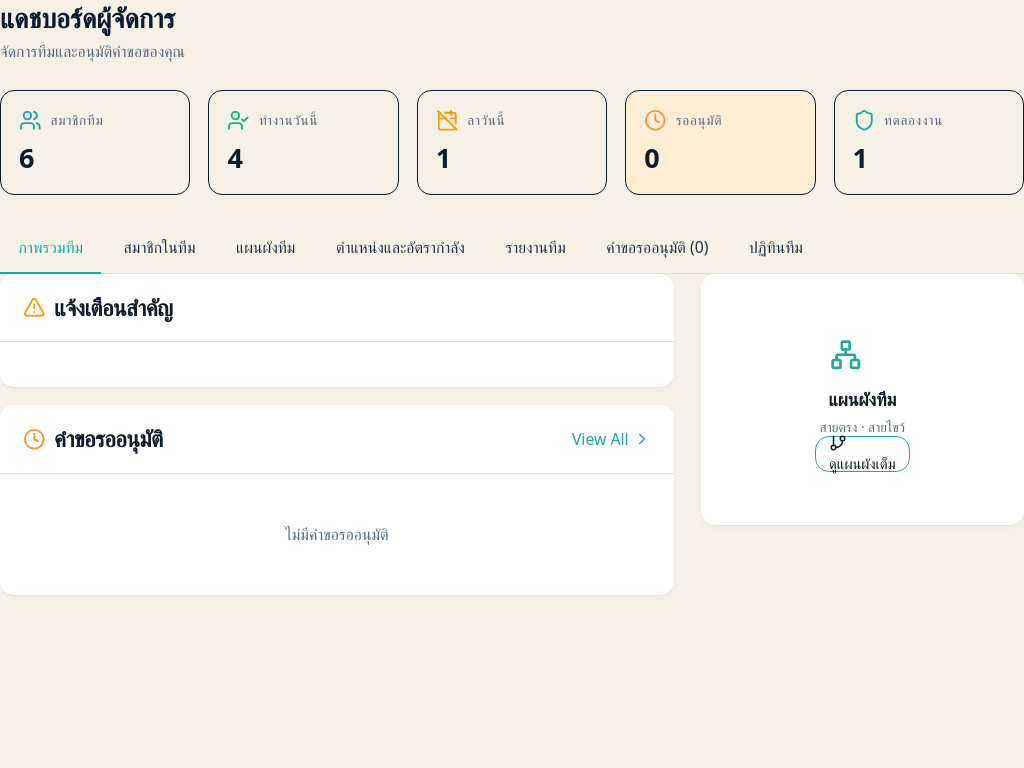
Test case: AC-3: movement timeline types › แสดง employeeName ของ joiner record
Click the button "รายงานทีม" at (536, 248), box [487,222,584,274]
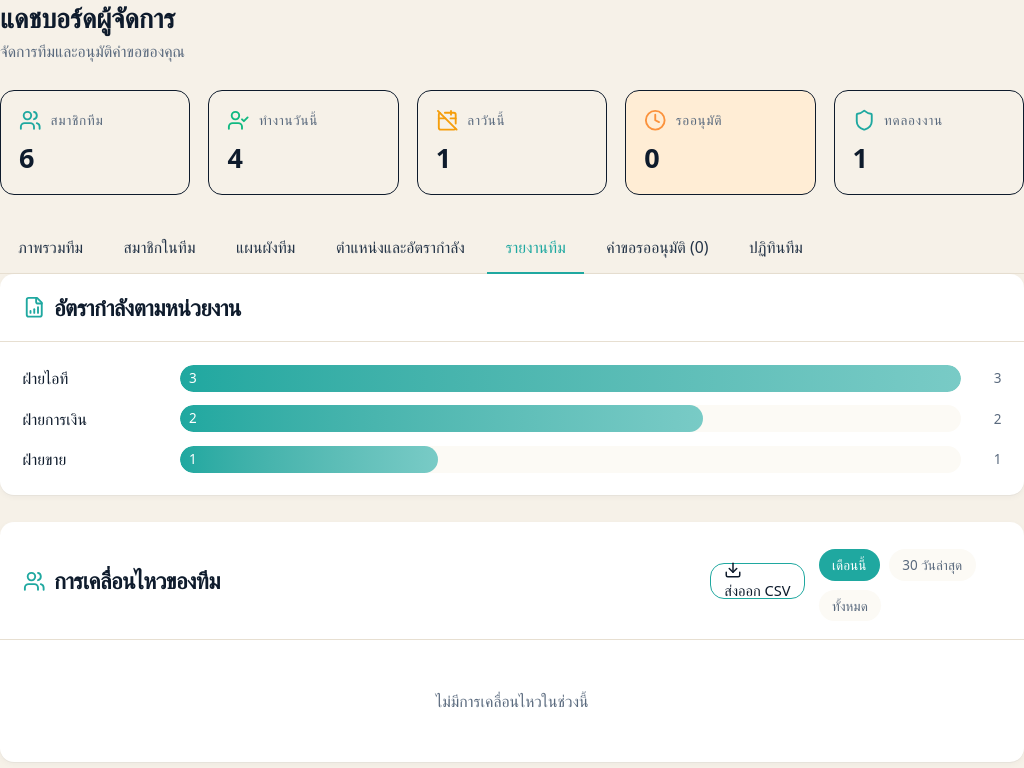
Click the button "ทั้งหมด" at (850, 606), box [819,590,881,622]
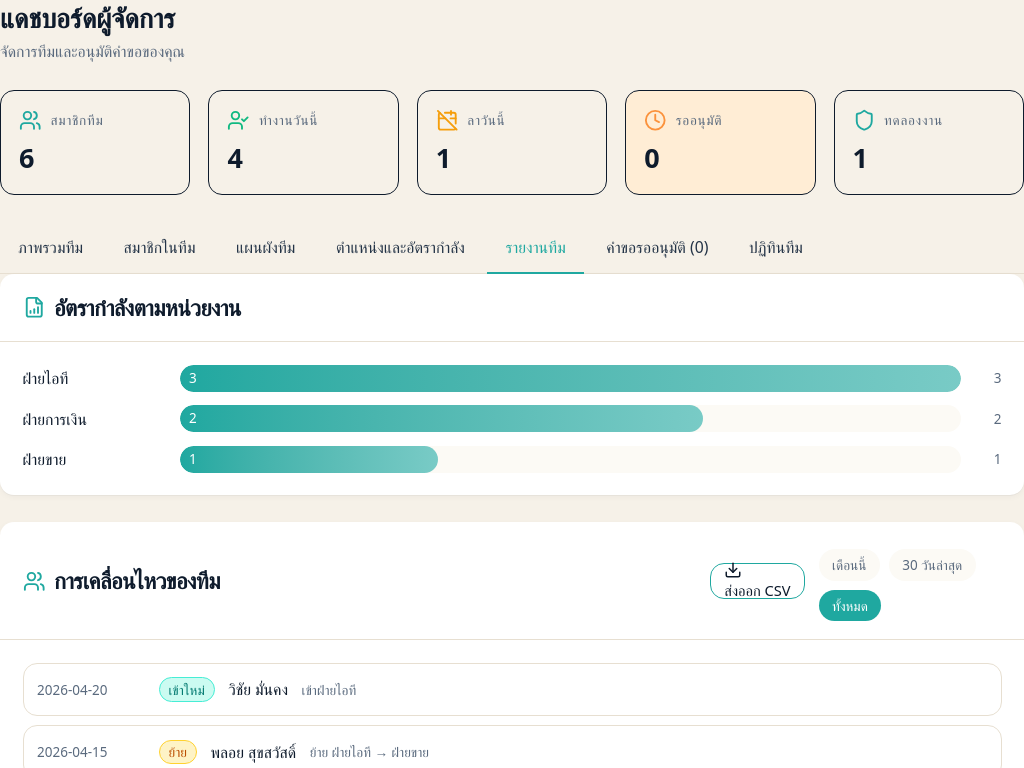
Check: the text "วิชัย มั่นคง" is shown, box [228,678,288,701]
